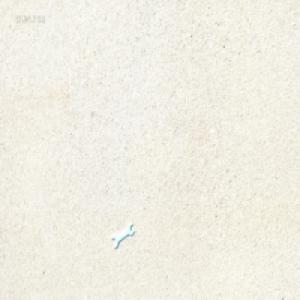Wrench: (112, 221, 134, 250)
